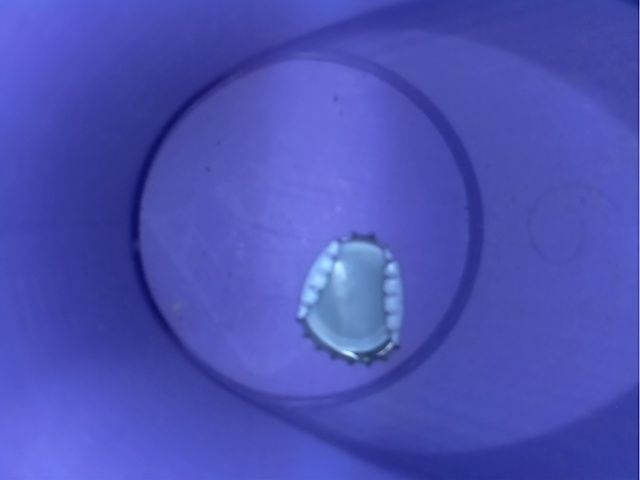capsule: (290, 226, 412, 370)
